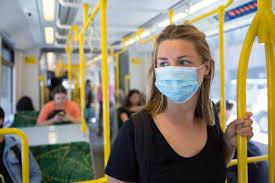mask: (150, 61, 200, 113)
